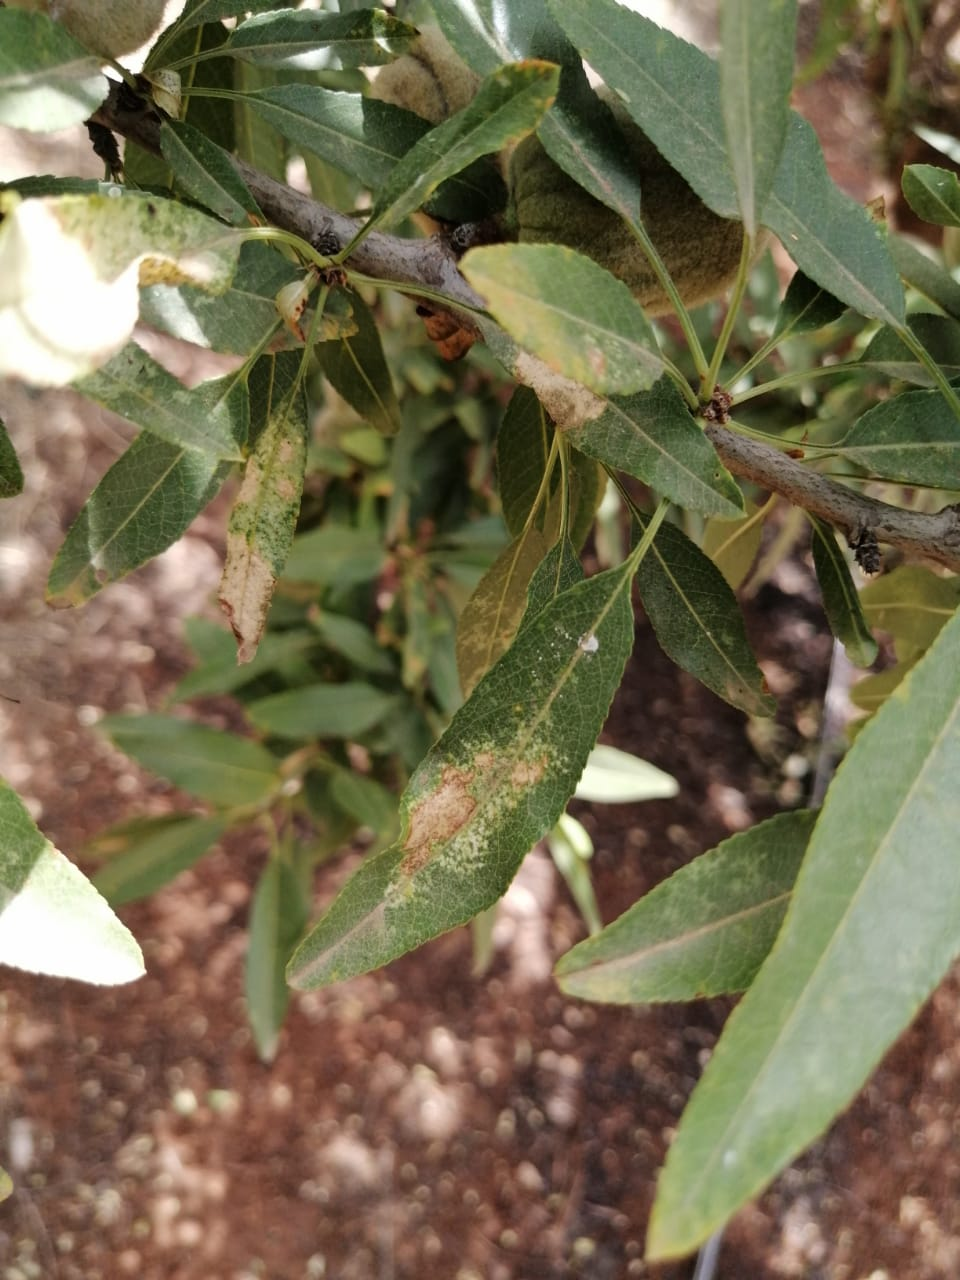chancre fusicocum: (422, 290, 772, 1217)
